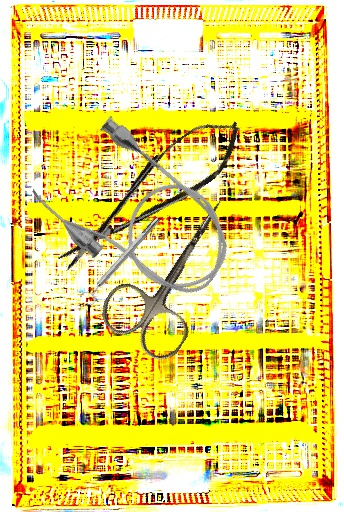Cannula: (23, 106, 253, 326)
Fixation Ring: (78, 213, 165, 308)
Iris Scissors: (92, 176, 261, 368)
Micro Scissor: (42, 106, 256, 281)
